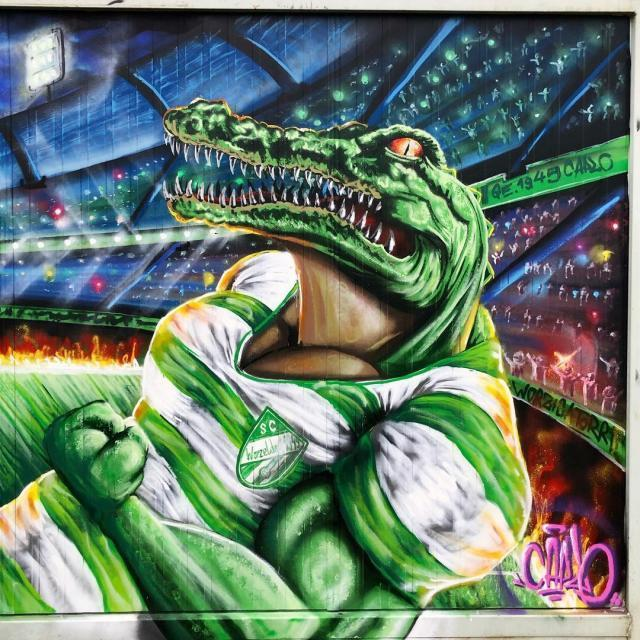-: (10, 96, 528, 610), (520, 520, 620, 606)
